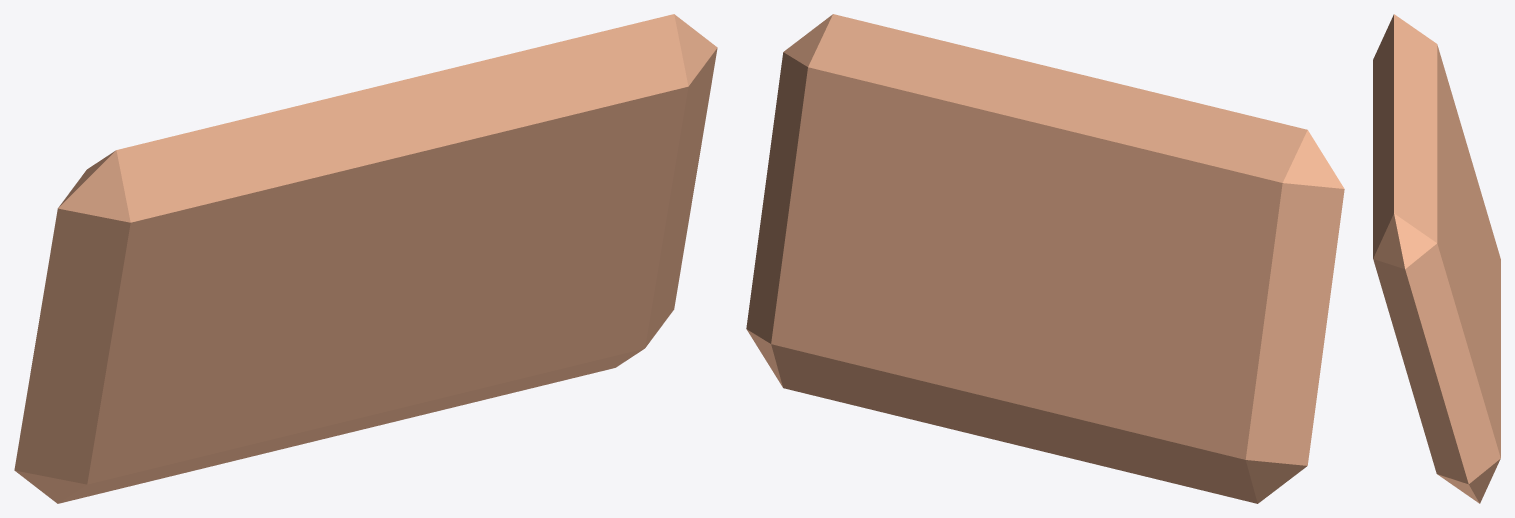
Rendered from pillowLong.glb.
The picture shows the model from 3 angles, left to right: view 1: azimuth 30°, elevation 25°; view 2: azimuth 150°, elevation 25°; view 3: azimuth 270°, elevation 25°; orthographic projection. The views are drawn at different scales.
Visible parts, largest first — view 1: pillowLong; view 2: pillowLong; view 3: pillowLong.
Part boxes in pixels (x1,y1,x2,y2): pillowLong: (14, 14, 717, 503); pillowLong: (746, 14, 1344, 503); pillowLong: (1373, 14, 1500, 503).
Bounding box in the file's own units: 3.87 × 2.22 × 0.8848.
